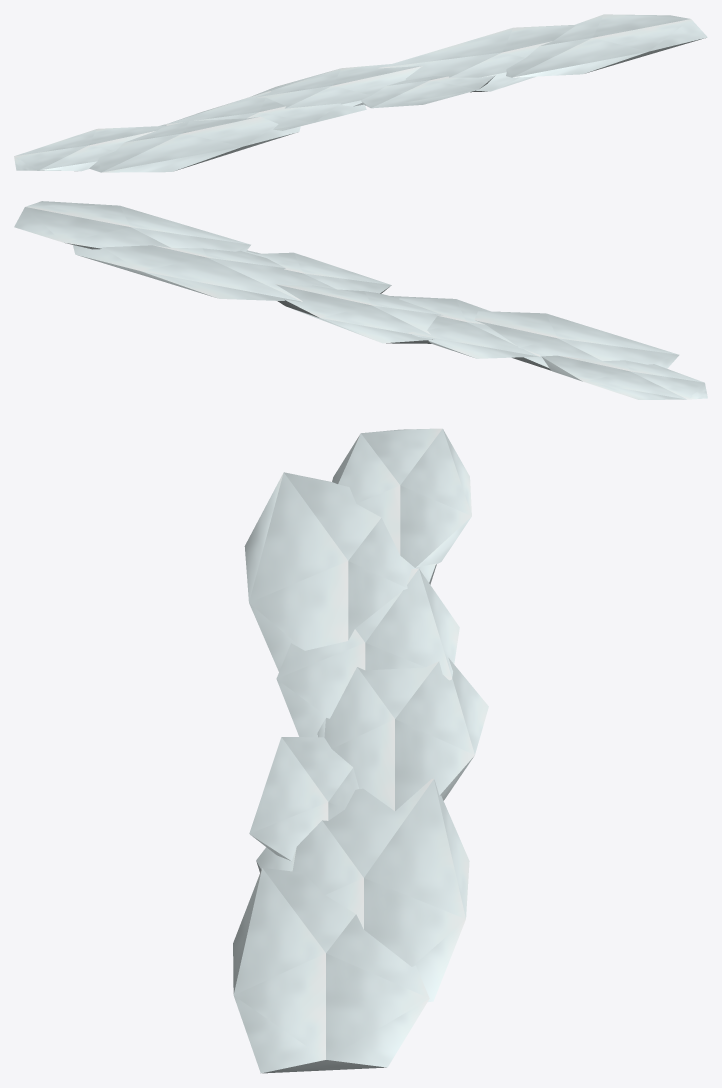
File: water_foam_01.glb
3 views of the same model, one above another, from view 1: azimuth 30°, elevation 25°; view 2: azimuth 150°, elevation 25°; view 3: azimuth 270°, elevation 25° (orthographic). The views are drawn at different scales.
Visible parts, largest first — view 1: water_foam_01; view 2: water_foam_01; view 3: water_foam_01.
Part boxes in pixels (x1,y1,x2,y2): water_foam_01: (14,14,707,172); water_foam_01: (14,201,707,399); water_foam_01: (233,428,488,1073).
Bounding box in the file's own units: 2.76 × 0.0652 × 0.4662.
Materials: 1 (1 with a texture image).
